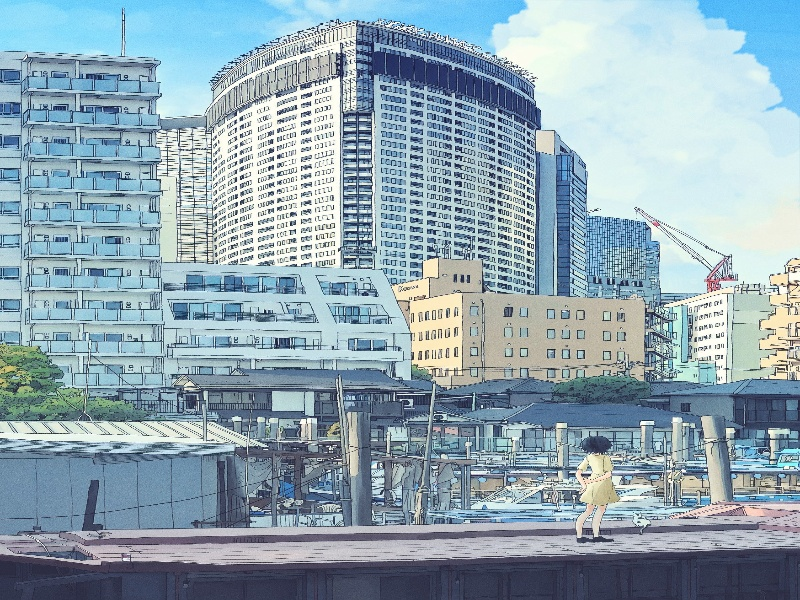dress: (573, 459, 624, 515)
person: (577, 432, 614, 465)
